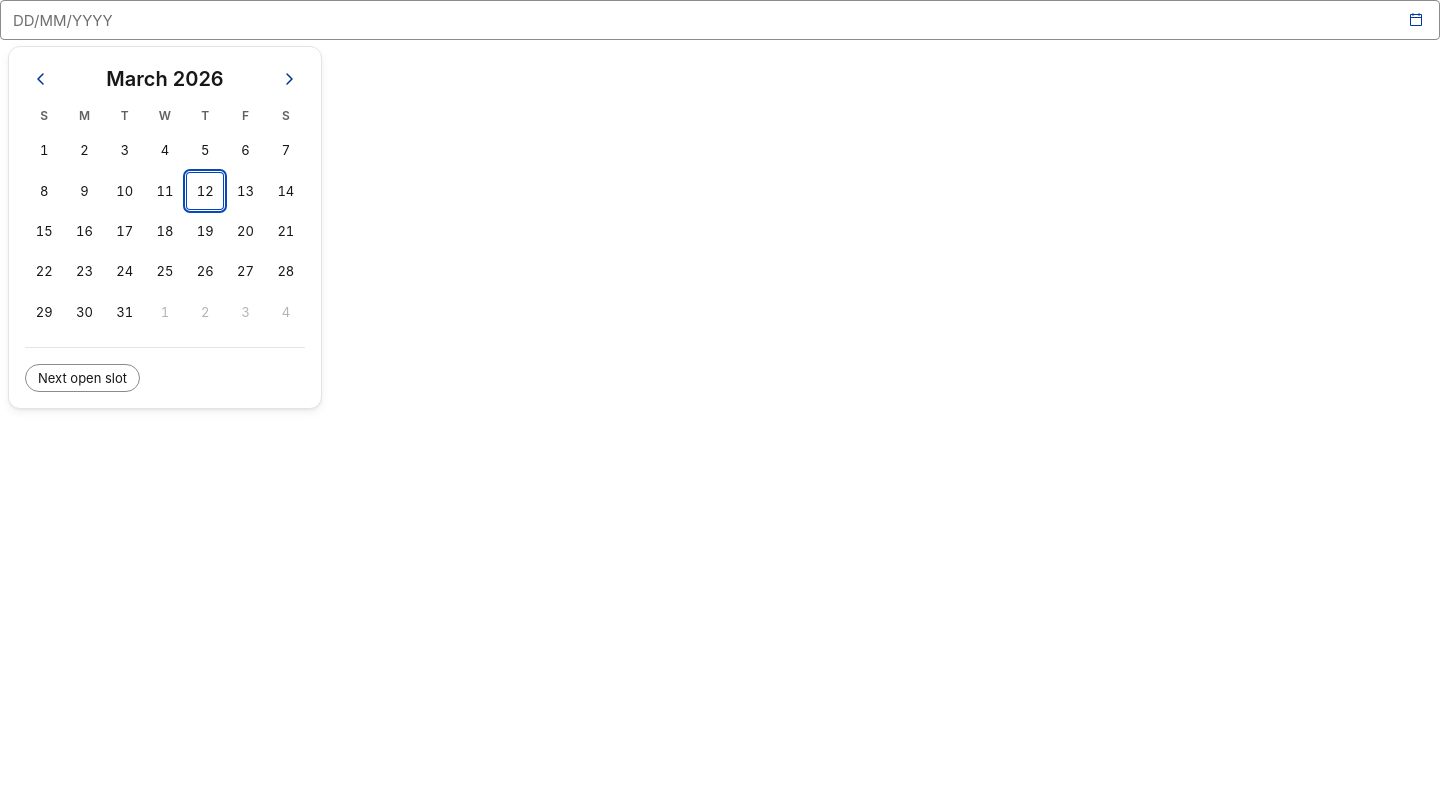
DatePicker › presets pick their date and close
Click the button "Next open slot".
click(83, 378)  # box x1=25 y1=364 x2=140 y2=392
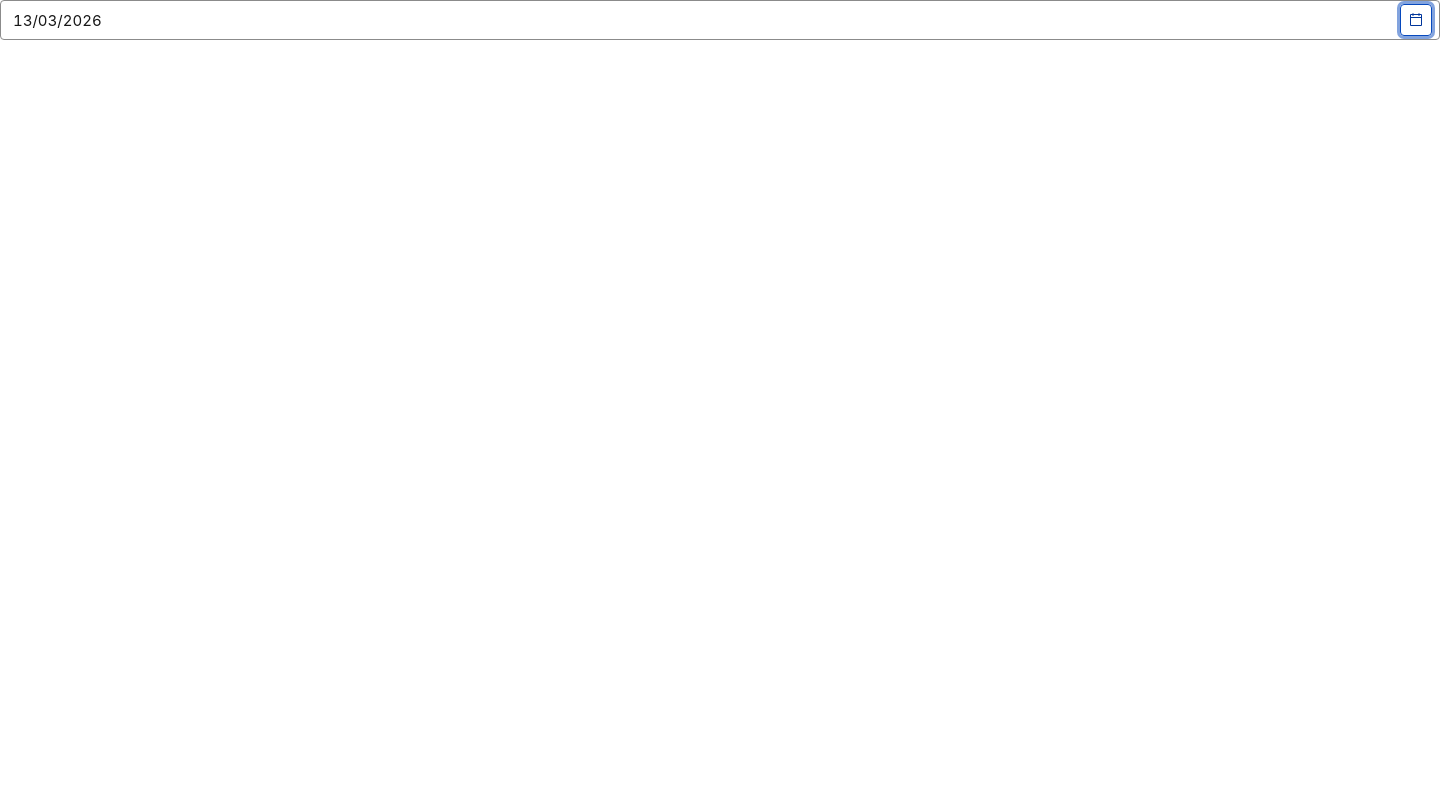
Result: the dialog is gone
